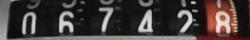digits: (96, 5, 116, 36), (213, 8, 232, 38), (176, 8, 194, 38), (137, 8, 155, 37), (21, 11, 37, 38), (58, 10, 74, 36)
